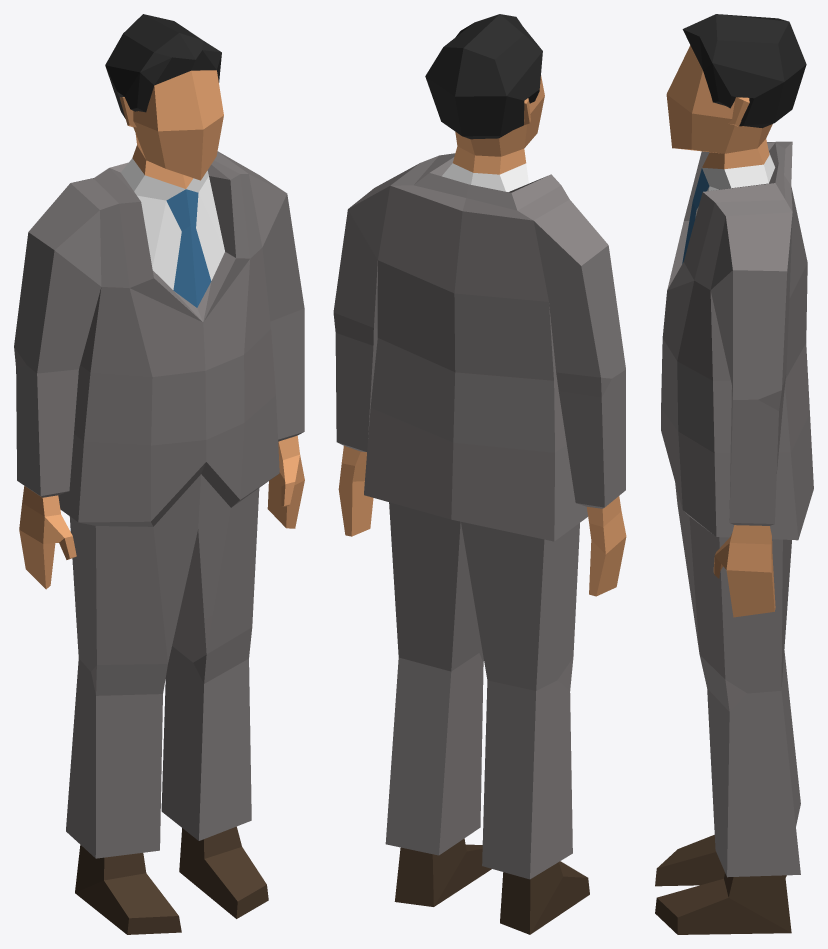
Rendered from man-suit.glb.
3 views of the same model, side by side, from view 1: azimuth 30°, elevation 25°; view 2: azimuth 150°, elevation 25°; view 3: azimuth 270°, elevation 25° (orthographic).
Parts seen in each view (by area): view 1: man-suit; view 2: man-suit; view 3: man-suit.
Part boxes in pixels (left/top/right/bottom): man-suit: left=14, top=14, right=304, bottom=934; man-suit: left=333, top=14, right=626, bottom=934; man-suit: left=655, top=14, right=813, bottom=934.
Bounding box in the file's own units: 0.5881 × 1.83 × 0.2976.
1 material, 1 textured.
